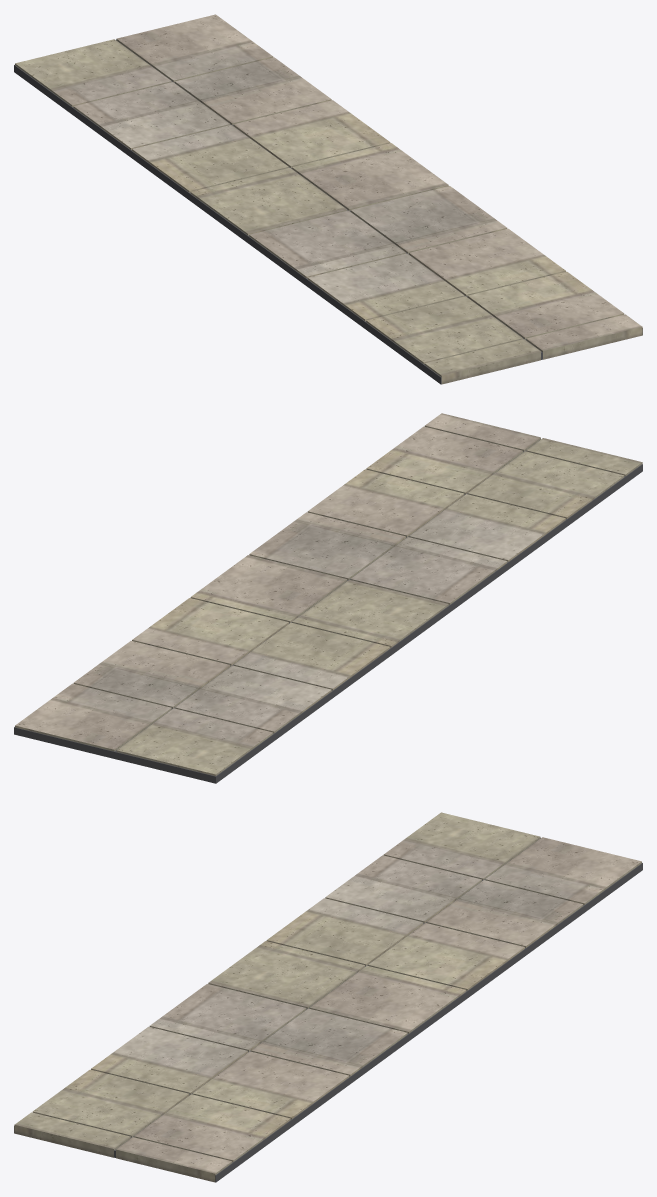
Rendered from path.glb.
3 views of the same model, one above another, from view 1: azimuth 30°, elevation 25°; view 2: azimuth 150°, elevation 25°; view 3: azimuth 330°, elevation 25° (orthographic).
Parts seen in each view (by area): view 1: path_paving, path_dark; view 2: path_paving, path_dark; view 3: path_paving, path_dark.
Boxes of the visible parts, bbox=[...] form: path_paving: bbox=[15, 14, 642, 384]; path_dark: bbox=[14, 40, 642, 384]; path_paving: bbox=[15, 413, 642, 776]; path_dark: bbox=[14, 439, 642, 783]; path_paving: bbox=[14, 812, 641, 1182]; path_dark: bbox=[14, 838, 642, 1182].
Bounding box in the file's own units: 1.2 × 0.05 × 4.38.
2 materials, 1 textured.
